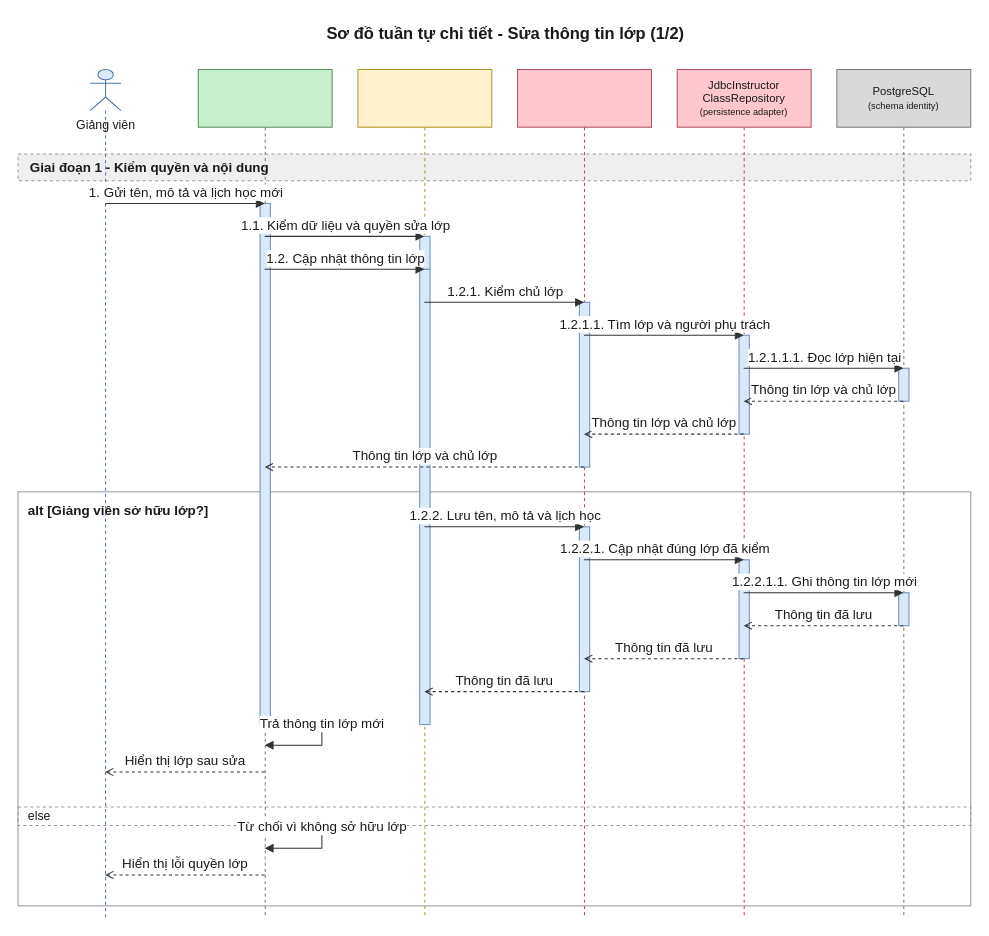
The diagram is 989 pixels wide and 936 high, and some of its shapes have lost their labels. Here are the shapes that lost their labels. From the top down, the box of each, then its label:
(197, 68, 332, 918): InstructorClass Controller (presentation)
(357, 68, 492, 918): UpdateClass CommandHandler (application command)
(517, 68, 651, 918): InstructorClass Repository (output port)
